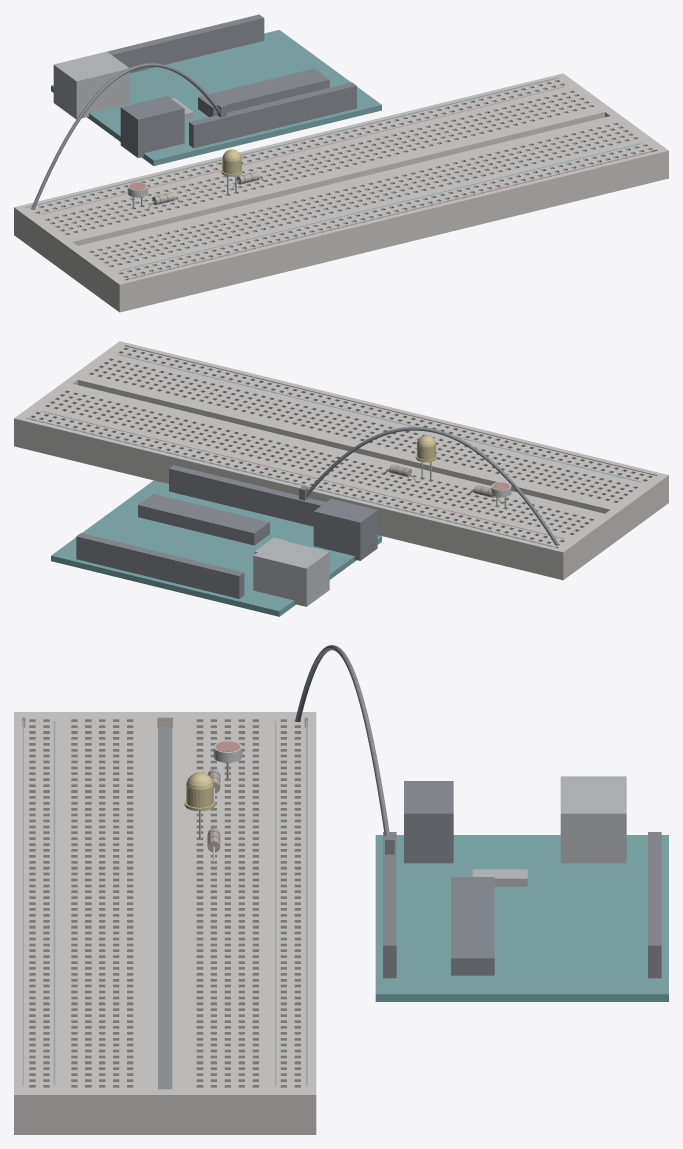
Rendered from step-5.glb.
3 views of the same model, one above another, from view 1: azimuth 30°, elevation 25°; view 2: azimuth 150°, elevation 25°; view 3: azimuth 270°, elevation 25° (orthographic). The views are drawn at different scales.
Visible parts, largest first — view 1: bb__mesh, uno__mesh, w_gnd_rail__mesh, led_yellow__mesh; view 2: bb__mesh, uno__mesh, w_gnd_rail__mesh, led_yellow__mesh; view 3: bb__mesh, uno__mesh, w_gnd_rail__mesh, led_yellow__mesh.
Part boxes in pixels (x1,y1,x2,y2): bb__mesh: (14, 73, 668, 312); uno__mesh: (51, 14, 381, 165); w_gnd_rail__mesh: (31, 63, 226, 209); led_yellow__mesh: (221, 149, 242, 194); bb__mesh: (14, 341, 668, 580); uno__mesh: (51, 465, 381, 616); w_gnd_rail__mesh: (299, 427, 558, 545); led_yellow__mesh: (415, 435, 437, 480); bb__mesh: (14, 712, 316, 1134); uno__mesh: (375, 776, 668, 1001); w_gnd_rail__mesh: (295, 645, 394, 854); led_yellow__mesh: (184, 772, 215, 838).
Size of the model in its own units: 0.165 by 0.037 by 0.1192.
